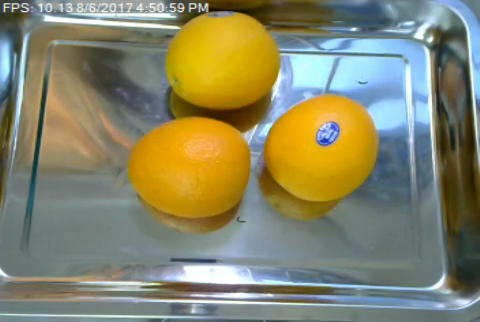Orange: (125, 116, 251, 218), (265, 94, 378, 201), (163, 11, 283, 108)
